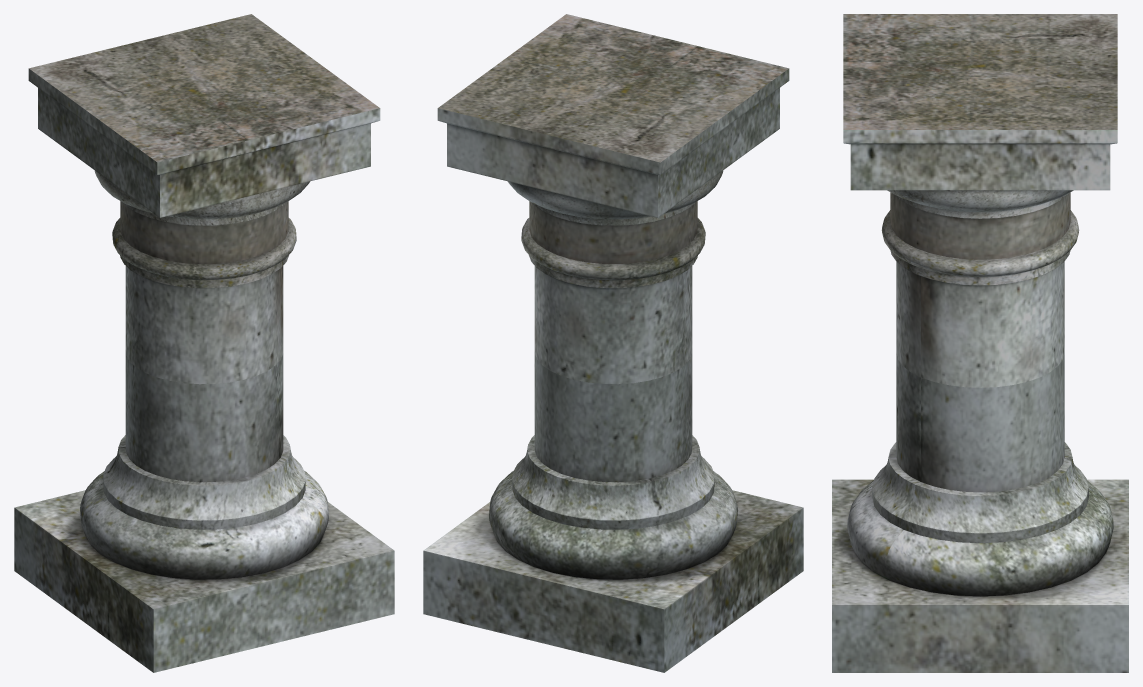
Rendered from SmallColumn.obj.
3 views of the same model, side by side, from view 1: azimuth 30°, elevation 25°; view 2: azimuth 150°, elevation 25°; view 3: azimuth 270°, elevation 25° (orthographic). The views are drawn at different scales.
Parts seen in each view (by area): view 1: 10409_Doric_Column_v1_iterations-2.045_10409_Doric_Column_v1_ite; view 2: 10409_Doric_Column_v1_iterations-2.045_10409_Doric_Column_v1_ite; view 3: 10409_Doric_Column_v1_iterations-2.045_10409_Doric_Column_v1_ite.
Part boxes in pixels (x1,y1,x2,y2): 10409_Doric_Column_v1_iterations-2.045_10409_Doric_Column_v1_ite: (14, 14, 394, 672); 10409_Doric_Column_v1_iterations-2.045_10409_Doric_Column_v1_ite: (423, 14, 803, 672); 10409_Doric_Column_v1_iterations-2.045_10409_Doric_Column_v1_ite: (832, 14, 1128, 672).
Size of the model in its own units: 0.5 by 0.9999 by 0.5.
Materials: 1 (1 with a texture image).
